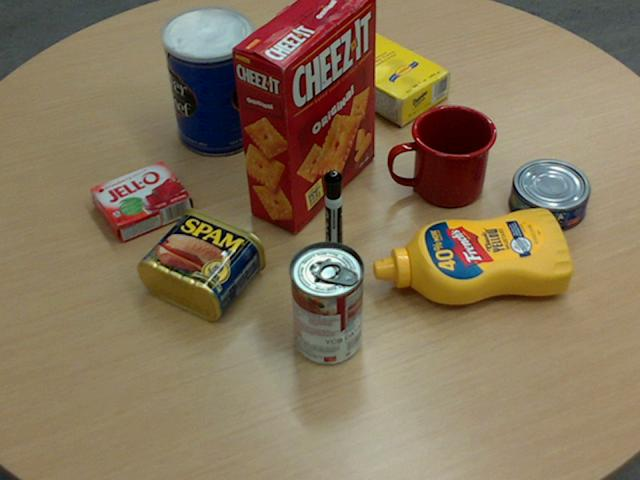cracker_box: (230, 0, 376, 232)
gelatin_box: (90, 159, 191, 240)
large_marker: (323, 171, 343, 265)
master_chef_can: (161, 6, 259, 156)
mug: (388, 103, 496, 206)
mustard_bottle: (372, 207, 571, 304)
potted_meat_can: (137, 206, 265, 319)
sugar_box: (301, 17, 450, 125)
tomato_soup_can: (288, 240, 363, 364)
tuna_fish_can: (508, 158, 588, 230)
